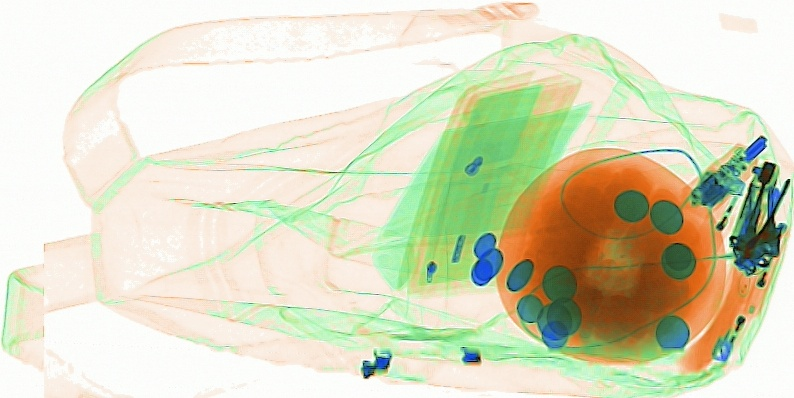lighter: (682, 174, 746, 279), (710, 275, 763, 364), (739, 220, 787, 317)
